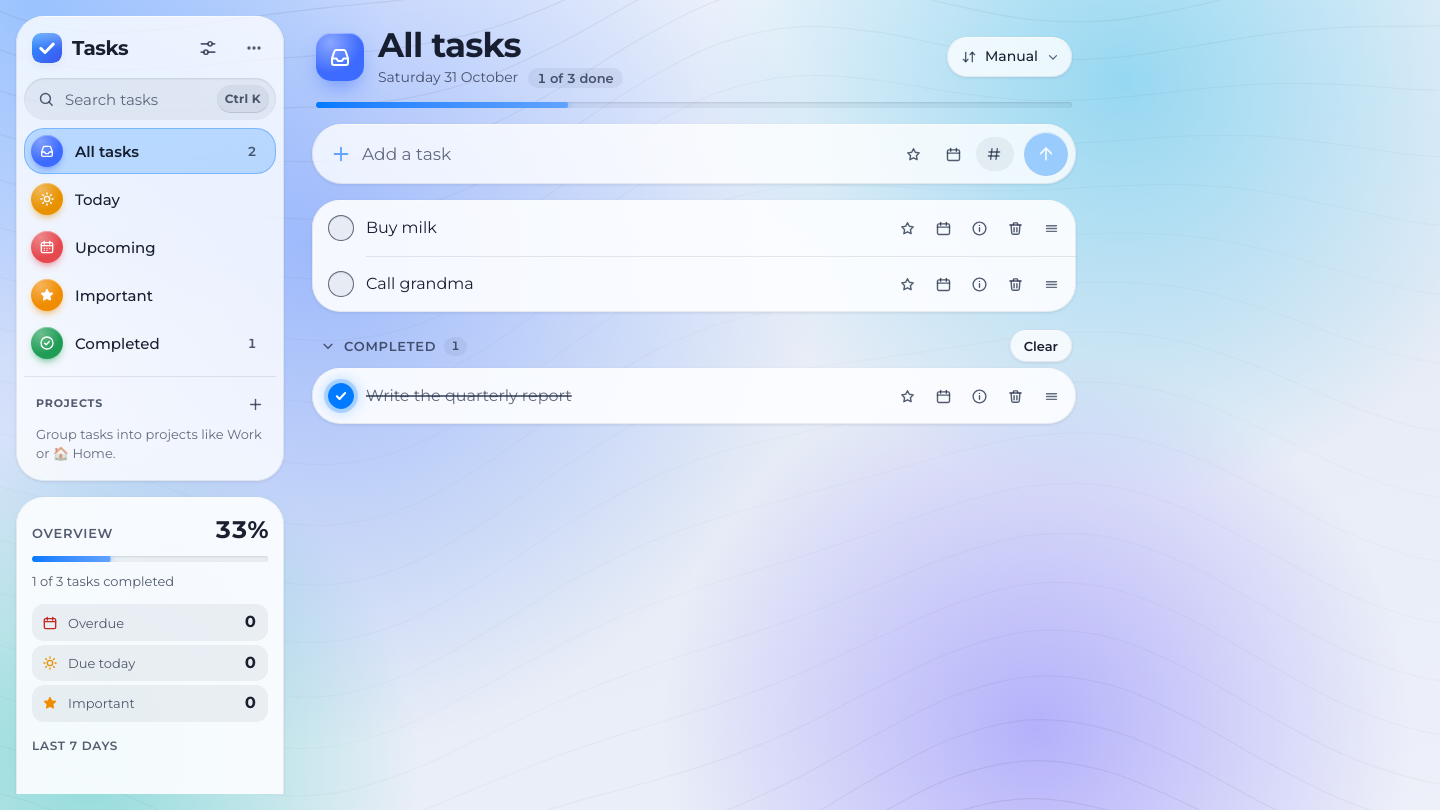
Scenario: TaskItem context menu › opens on right click and runs an action
Right-click the element showing "Buy milk" at (694, 228), box [312,200,1076,256]
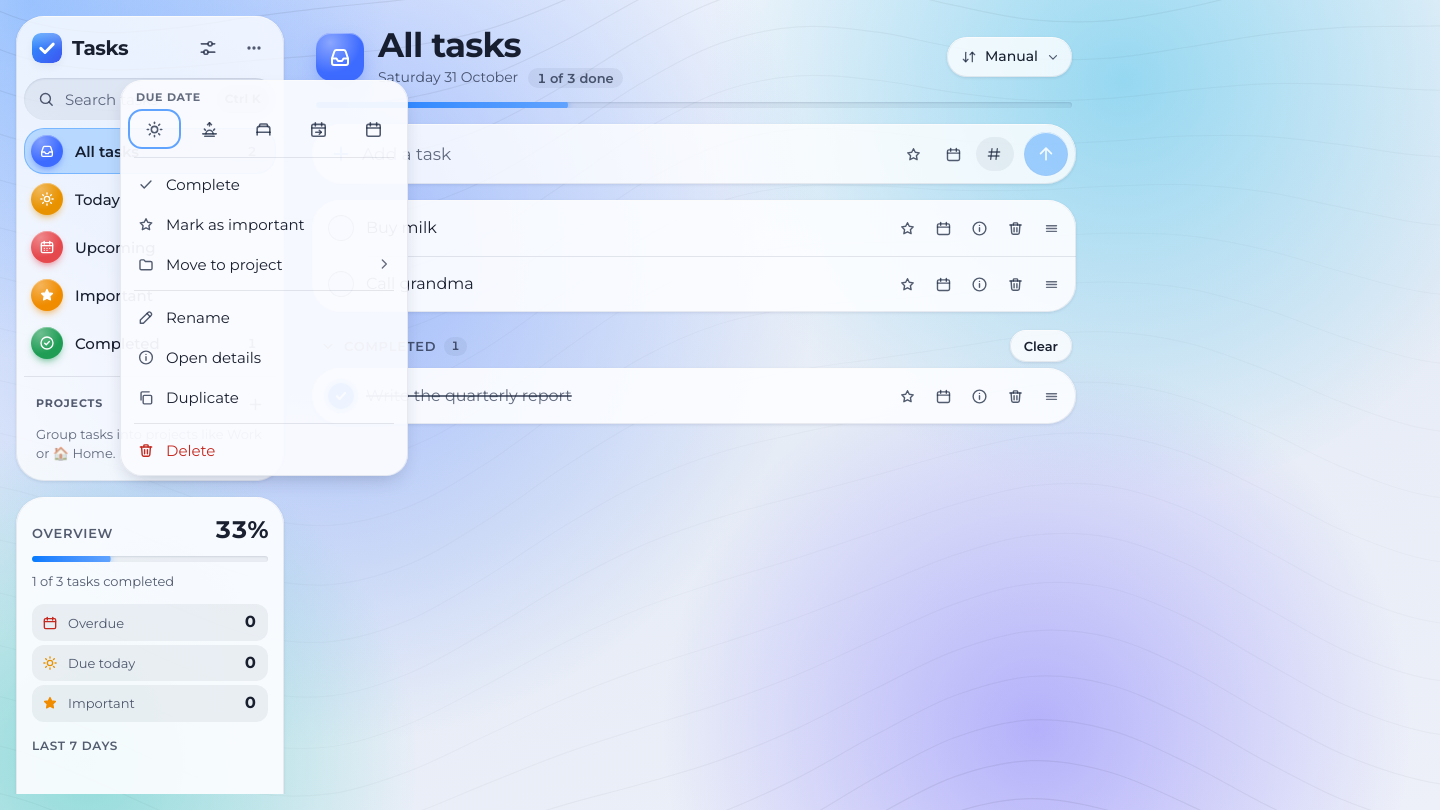
Click the menu item "Mark as important" at (264, 224), box [126,204,402,244]
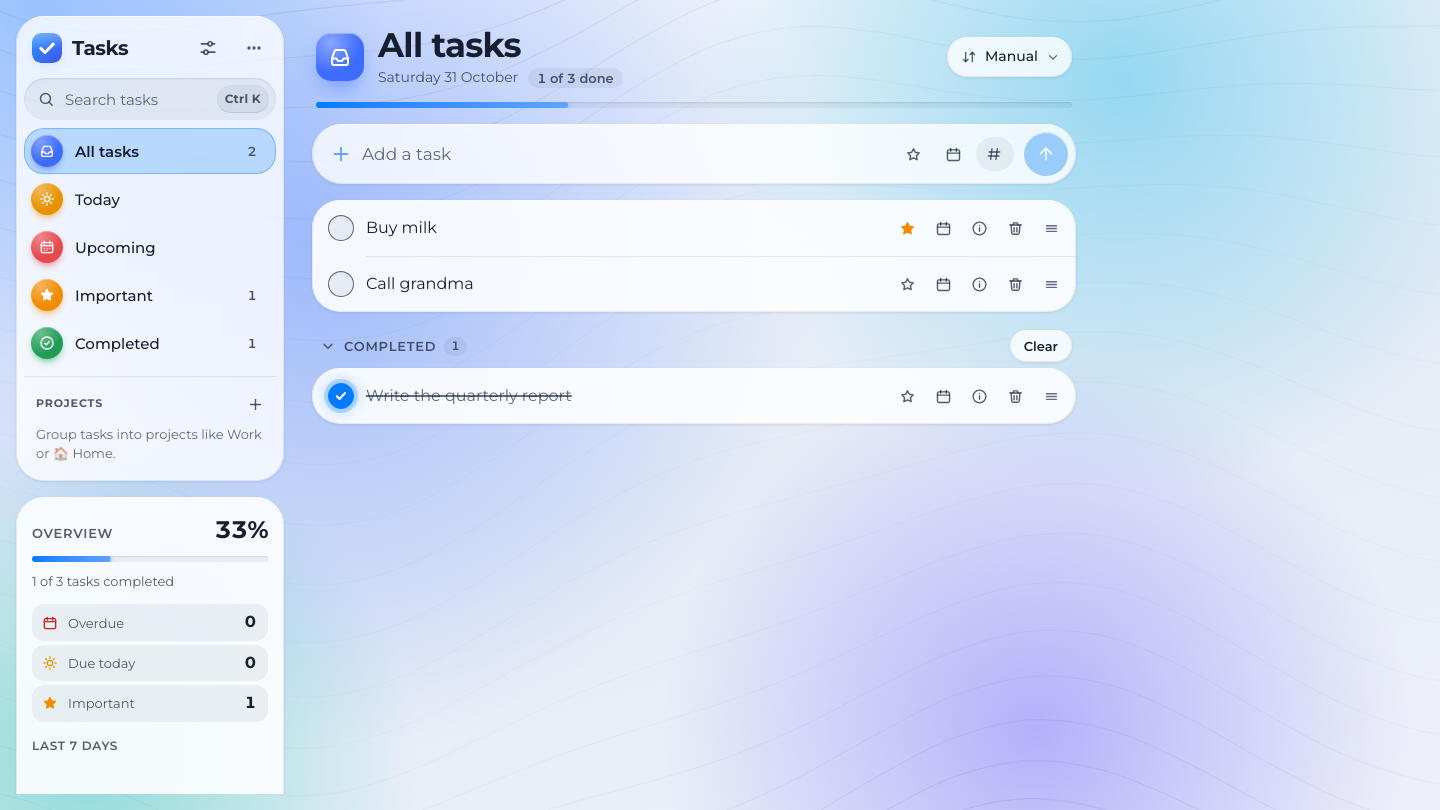
Check: the menu is gone
